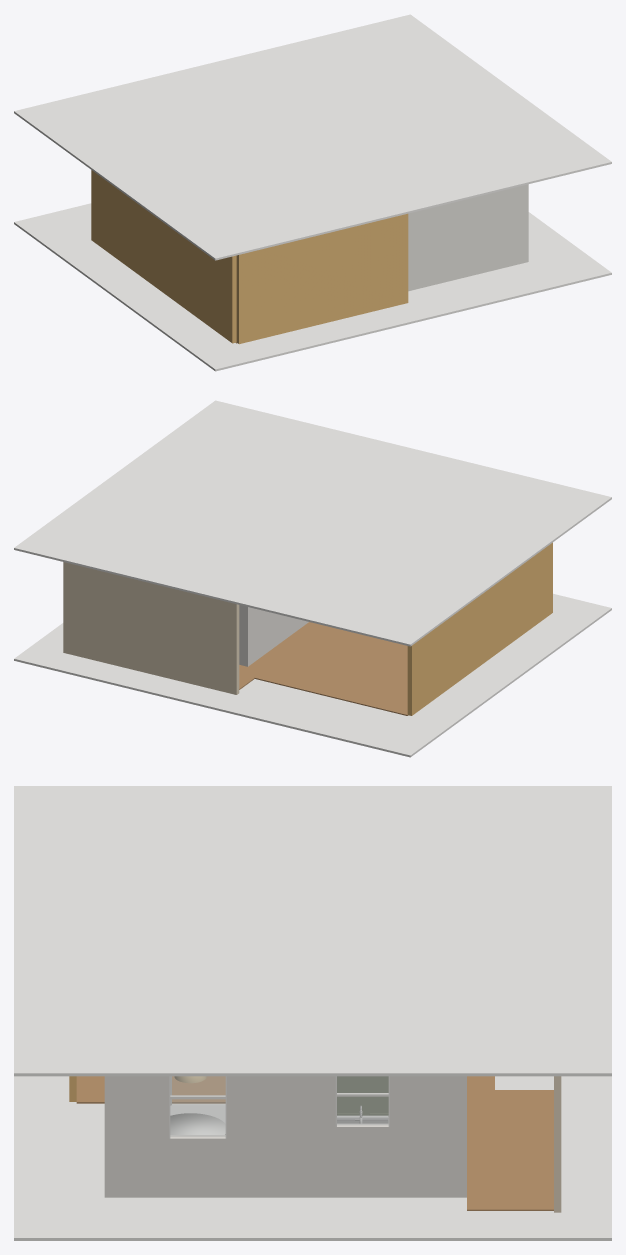
The picture shows the model from 3 angles, top to bottom: view 1: azimuth 30°, elevation 25°; view 2: azimuth 150°, elevation 25°; view 3: azimuth 270°, elevation 25°; orthographic projection. The views are drawn at different scales.
Parts seen in each view (by area): view 1: baked; view 2: baked; view 3: baked, window_glass_1, window_glass_0.
Boxes of the visible parts, x1=… form: baked: x1=14, y1=14, x2=611, y2=371; baked: x1=14, y1=400, x2=611, y2=757; baked: x1=14, y1=786, x2=611, y2=1240; window_glass_1: x1=170, y1=1076, x2=225, y2=1136; window_glass_0: x1=337, y1=1076, x2=388, y2=1124.
Size of what is drawn, in the model's own units: 9.53 by 2.59 by 8.38.
